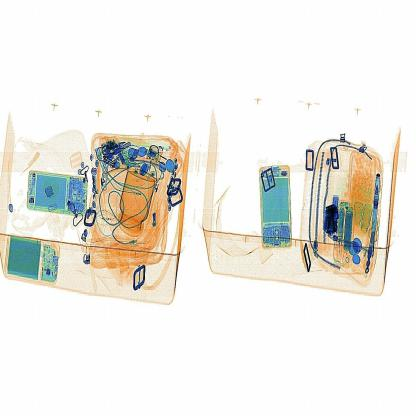scissors: (318, 192, 344, 249)
